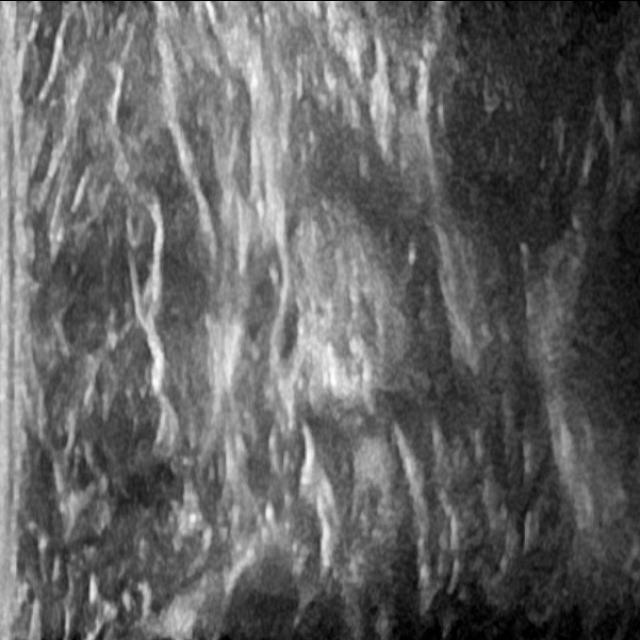Normal: (11, 34, 610, 613)
